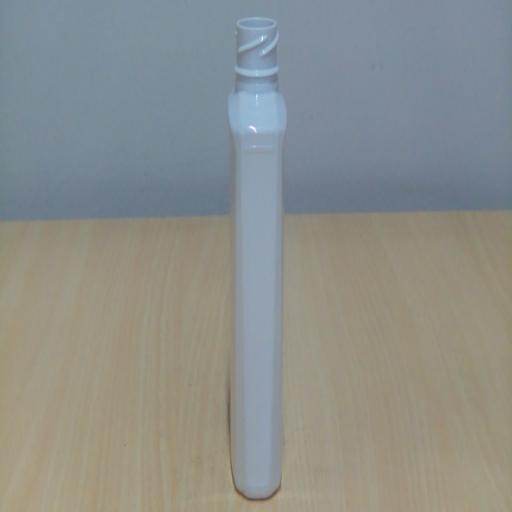Good: (220, 9, 294, 511)
